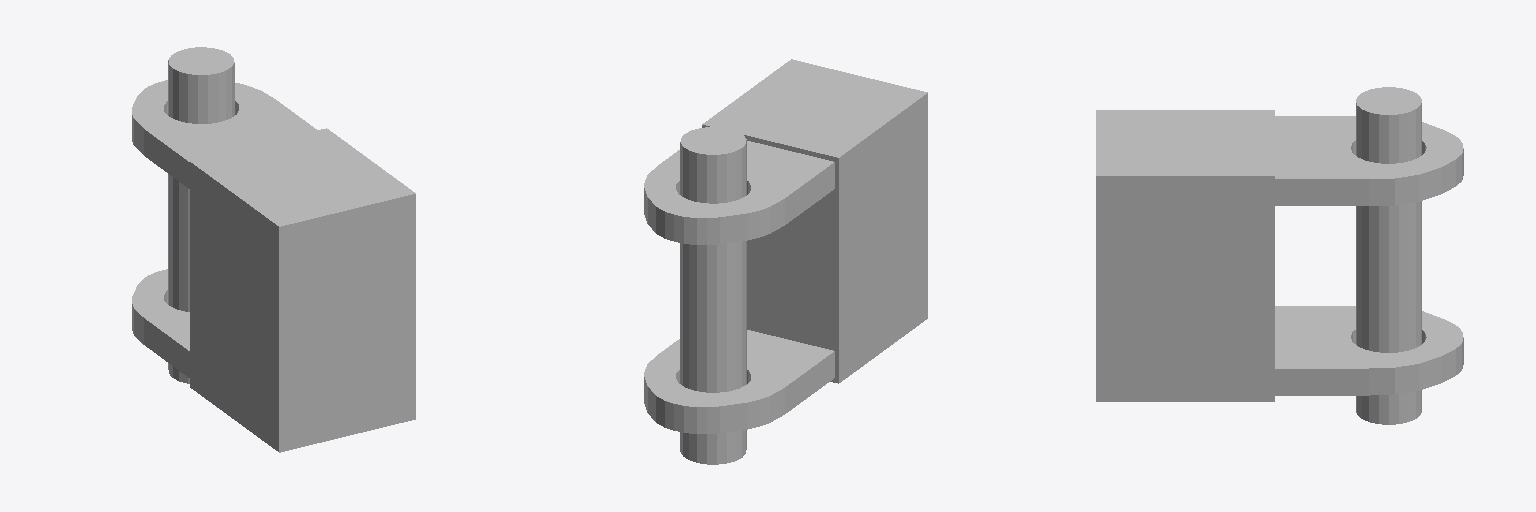
Rendered from univJointLeft.obj.
3 renders of one model, left to right at view 1: azimuth 30°, elevation 25°; view 2: azimuth 150°, elevation 25°; view 3: azimuth 270°, elevation 25°, orthographic.
Visible parts, largest first — view 1: pCube1 group4 group6, group4 group6 polySurface3 group3, group4 group6 pCylinder1, group4 group6 group3 polySurface4; view 2: pCube1 group4 group6, group4 group6 pCylinder1, group4 group6 polySurface3 group3, group4 group6 group3 polySurface4; view 3: pCube1 group4 group6, group4 group6 pCylinder1, group4 group6 group3 polySurface4, group4 group6 polySurface3 group3.
Part boxes in pixels (bbox=[...]): pCube1 group4 group6: bbox=[190, 128, 415, 452]; group4 group6 polySurface3 group3: bbox=[132, 80, 316, 188]; group4 group6 pCylinder1: bbox=[168, 47, 234, 383]; group4 group6 group3 polySurface4: bbox=[132, 269, 189, 377]; pCube1 group4 group6: bbox=[702, 59, 927, 383]; group4 group6 pCylinder1: bbox=[680, 127, 746, 464]; group4 group6 polySurface3 group3: bbox=[644, 141, 834, 244]; group4 group6 group3 polySurface4: bbox=[644, 330, 834, 433]; pCube1 group4 group6: bbox=[1096, 110, 1274, 401]; group4 group6 pCylinder1: bbox=[1356, 87, 1421, 424]; group4 group6 group3 polySurface4: bbox=[1275, 306, 1463, 395]; group4 group6 polySurface3 group3: bbox=[1275, 116, 1463, 205].
Size of the model in its own units: 1.23 by 2.67 by 2.86.